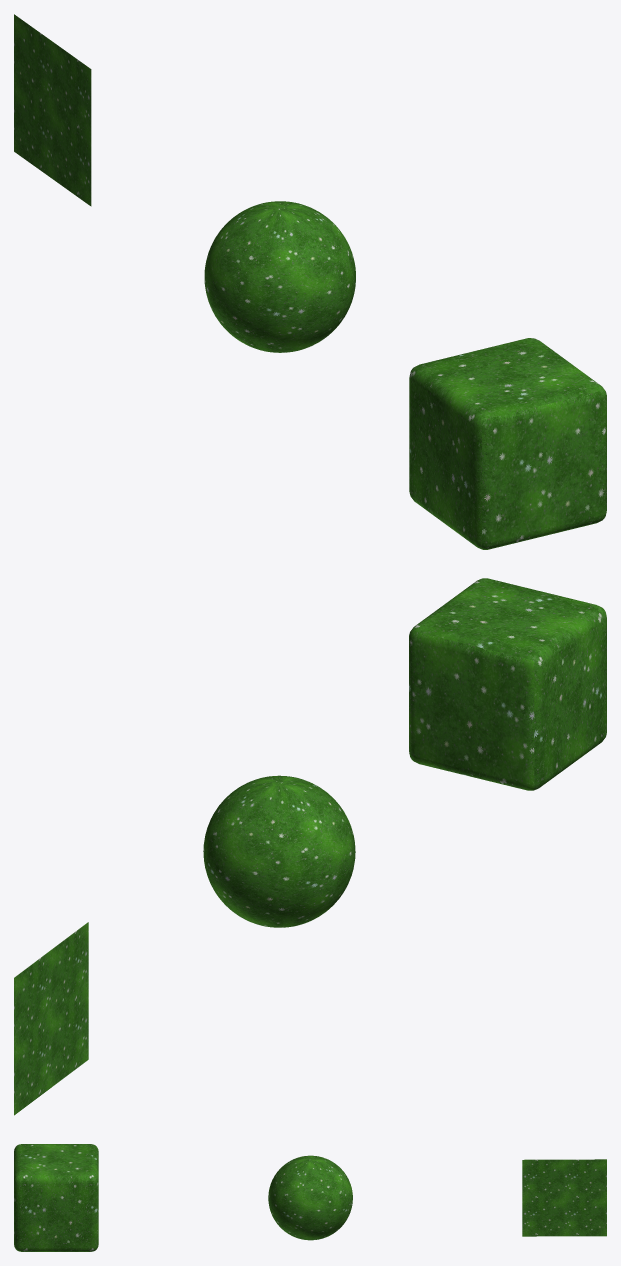
File: grass__tile_texture.glb
3 views of the same model, one above another, from view 1: azimuth 30°, elevation 25°; view 2: azimuth 150°, elevation 25°; view 3: azimuth 270°, elevation 25° (orthographic). The views are drawn at different scales.
Visible parts, largest first — view 1: Cube, Sphere, Plane; view 2: Cube, Sphere, Plane; view 3: Cube, Plane, Sphere.
Part boxes in pixels (box(x1,y1,x2,y2)): Cube: box(409, 338, 606, 549); Sphere: box(204, 201, 355, 352); Plane: box(14, 14, 91, 206); Cube: box(409, 578, 606, 790); Sphere: box(203, 775, 355, 927); Plane: box(14, 922, 88, 1115); Cube: box(14, 1144, 98, 1251); Plane: box(522, 1159, 606, 1236); Sphere: box(268, 1155, 352, 1240).
Bounding box in the file's own units: 2 × 2 × 14.01.
Materials: 1 (1 with a texture image).
